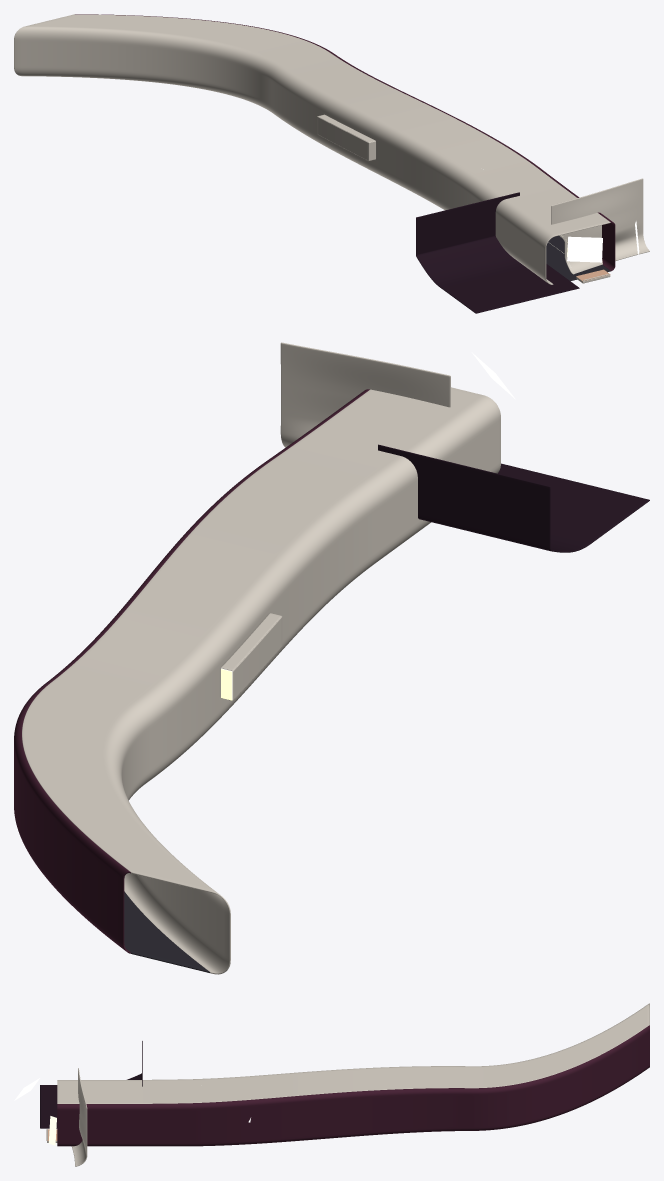
Rendered from chamber.glb.
The picture shows the model from 3 angles, top to bottom: view 1: azimuth 30°, elevation 25°; view 2: azimuth 150°, elevation 25°; view 3: azimuth 270°, elevation 25°; orthographic projection. The views are drawn at different scales.
Visible parts, largest first — view 1: Shared_Unfolding_Canopy, Retained_Hero_Wing_And_Floor, Shared_Sculpted_Cove, Deep_Burgundy_Continuous_Return, Warm_Recessed_Lightwell, Warm portrait softbox; view 2: Shared_Unfolding_Canopy, Retained_Hero_Wing_And_Floor, Deep_Burgundy_Continuous_Return, Shared_Sculpted_Cove, Warm_Recessed_Lightwell; view 3: Deep_Burgundy_Continuous_Return, Shared_Unfolding_Canopy, Retained_Hero_Wing_And_Floor, Shared_Sculpted_Cove.
Boxes of the visible parts, box(x1,y1,x2,y2) form: Shared_Unfolding_Canopy: box(14, 14, 610, 284); Retained_Hero_Wing_And_Floor: box(416, 192, 579, 313); Shared_Sculpted_Cove: box(551, 178, 649, 274); Deep_Burgundy_Continuous_Return: box(75, 14, 615, 271); Warm_Recessed_Lightwell: box(317, 116, 368, 160); Warm portrait softbox: box(567, 236, 602, 262); Shared_Unfolding_Canopy: box(22, 387, 500, 974); Retained_Hero_Wing_And_Floor: box(378, 444, 649, 552); Deep_Burgundy_Continuous_Return: box(14, 389, 369, 953); Shared_Sculpted_Cove: box(280, 342, 450, 447); Warm_Recessed_Lightwell: box(232, 616, 282, 700); Deep_Burgundy_Continuous_Return: box(57, 1025, 649, 1146); Shared_Unfolding_Canopy: box(57, 1003, 649, 1103); Retained_Hero_Wing_And_Floor: box(40, 1041, 142, 1128); Shared_Sculpted_Cove: box(71, 1068, 87, 1166).
Bounding box in the file's own units: 69.21 × 15.1 × 149.
